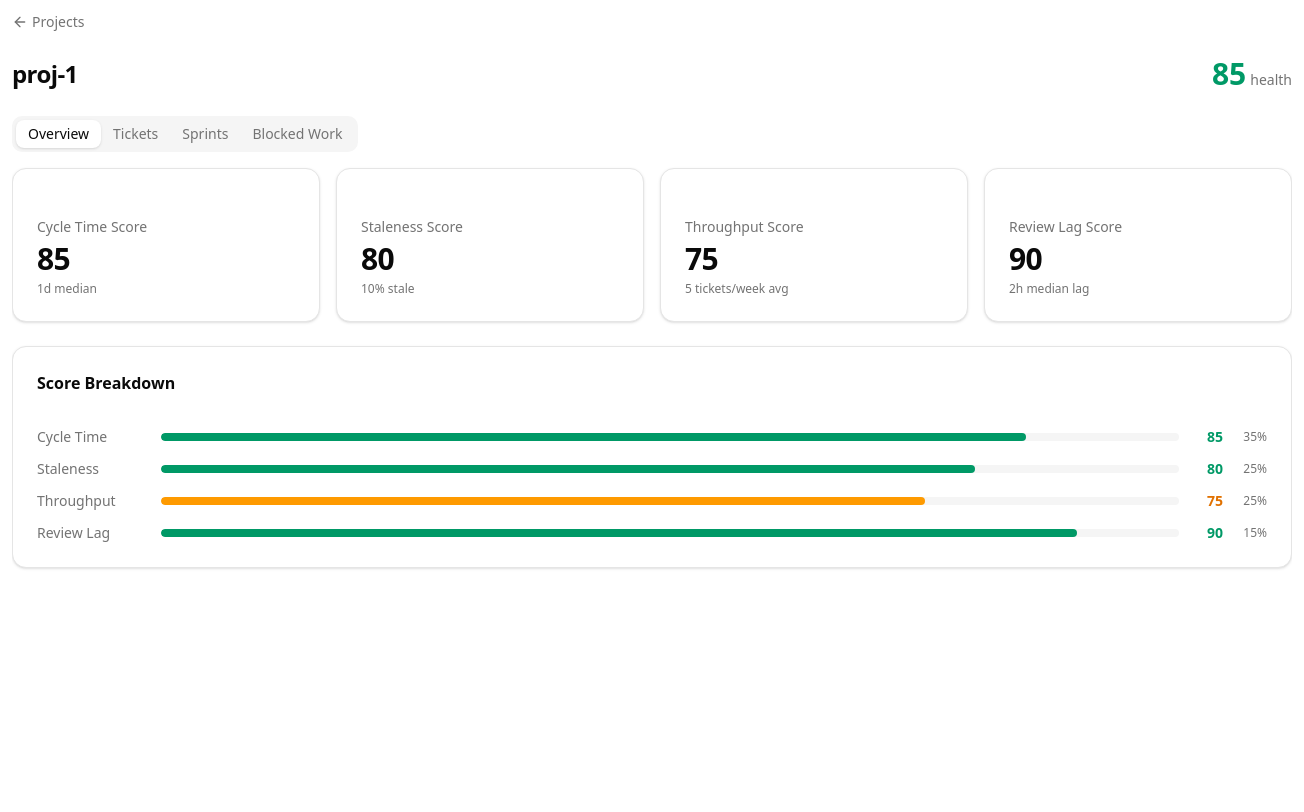
it: ProjectDetail › active sprint appears before closed sprints
Click the tab "Sprints".
click(205, 134)  # box [170,120,240,148]
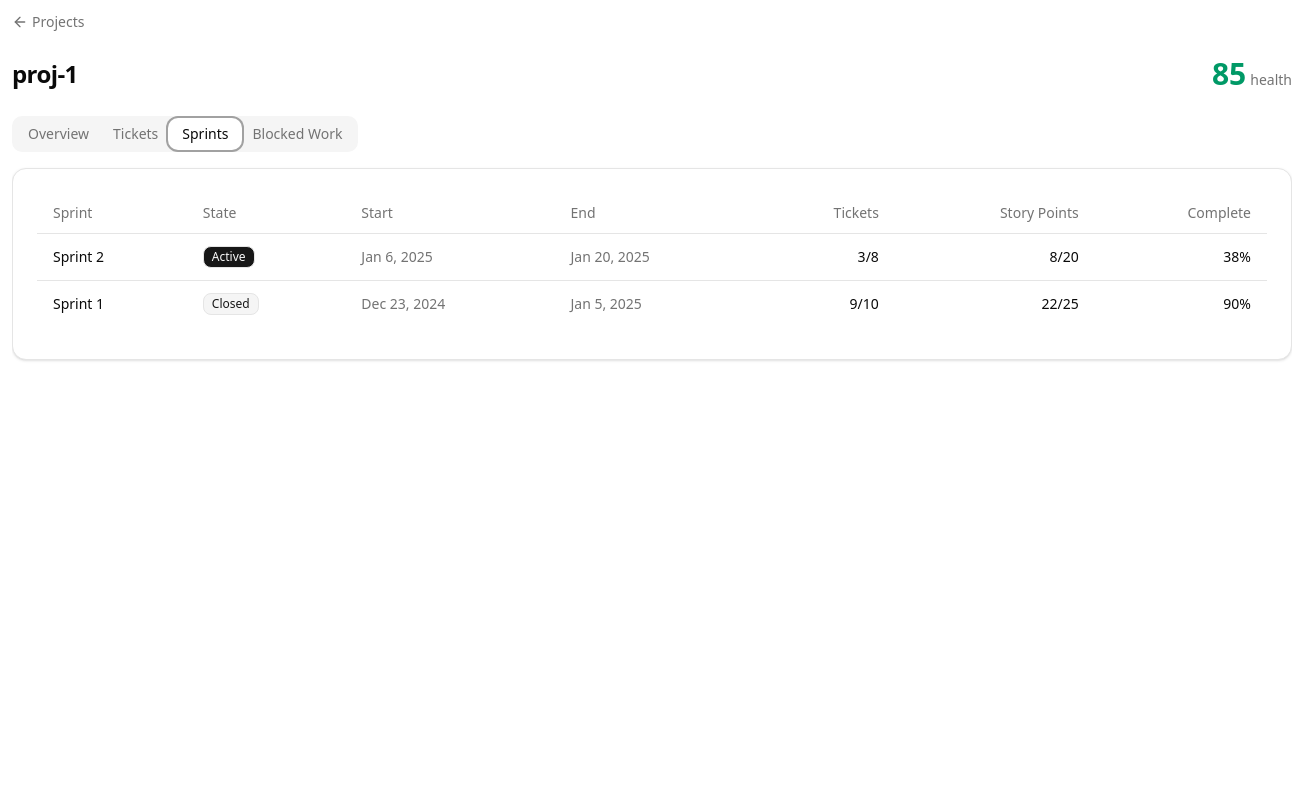
Result: the row "Sprint 2 active Jan 6, 2025 Jan 20, 2025 3/8 8/20 38%" is shown at [37,233,1267,280]
Result: the row "Sprint 1 closed Dec 23, 2024 Jan 5, 2025 9/10 22/25 90%" is shown at [37,280,1267,326]
